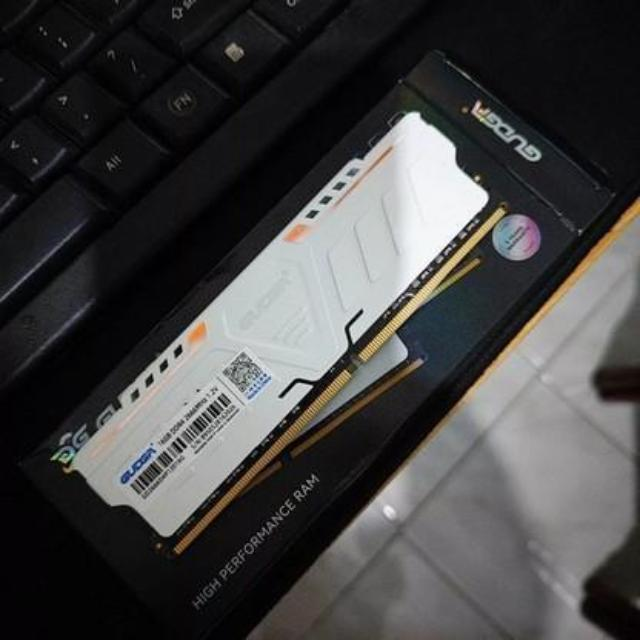RAM: (55, 100, 510, 562)
